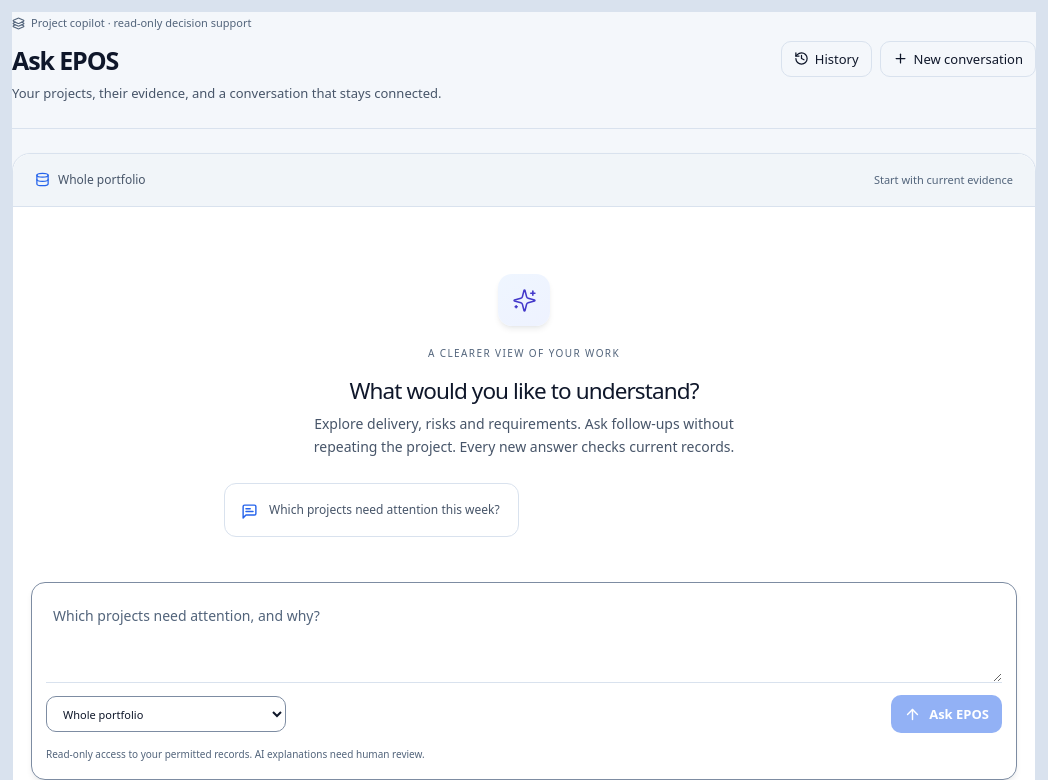
Test: AskEposPage › answers a question asked in the user's own words
The image size is (1048, 780).
Type "which projects are struggling?" into the text box named "Ask a question" at (524, 639), box [46,597,1002,682]
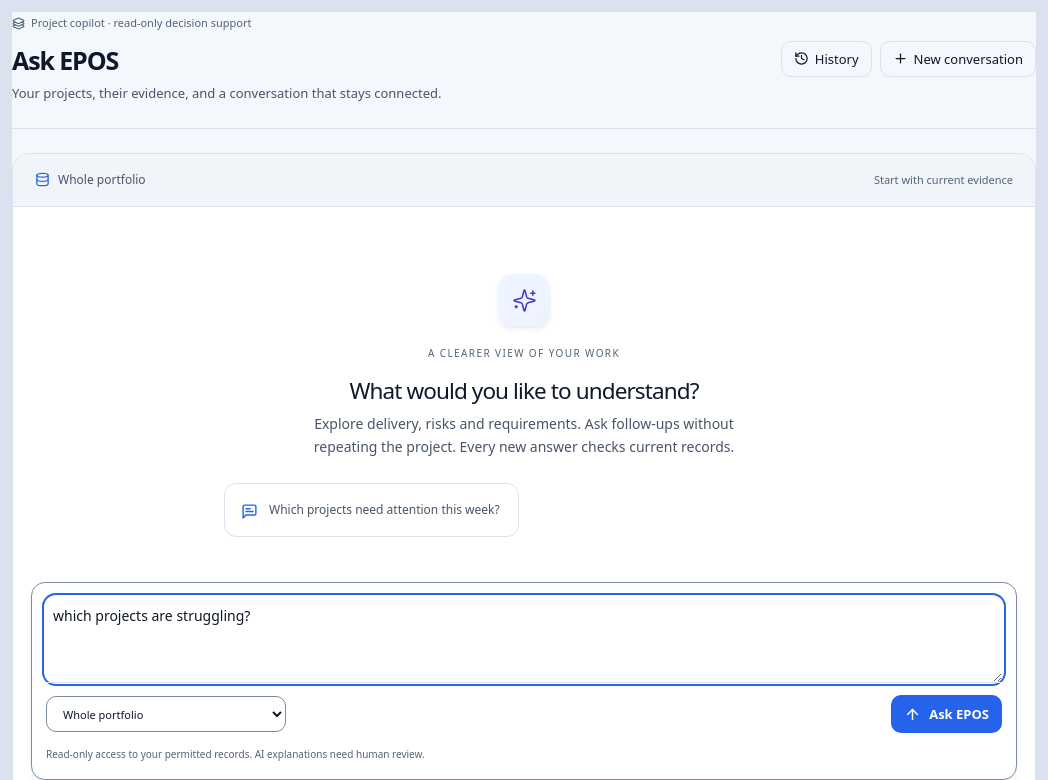
Click the button "Ask EPOS" at (947, 714), box [891,695,1002,733]
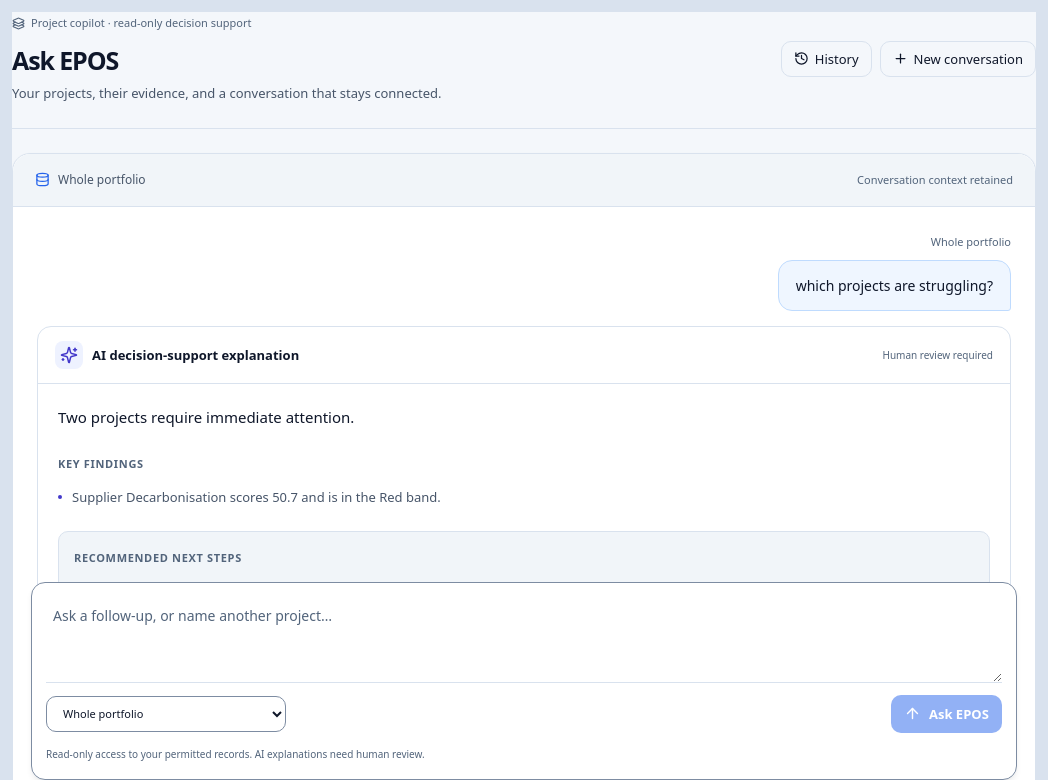
Check: the text "Two projects require immediate attention." is shown, box [58,407,354,427]
Check: the list item "Supplier Decarbonisation scores 50.7 and is in the Red band." is shown, box [72,488,441,506]
